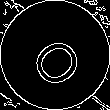O_NE: (22, 23, 88, 87)
